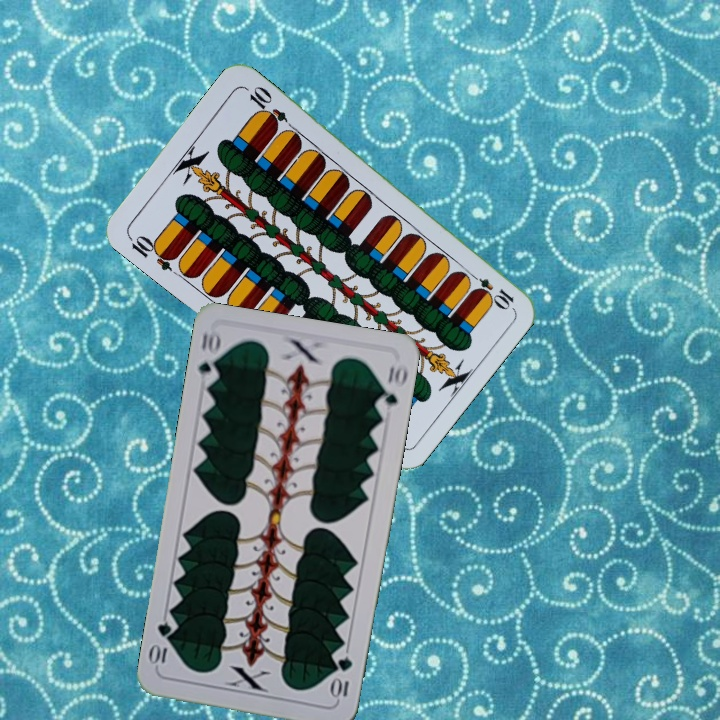E10: (124, 230, 179, 274), (463, 268, 517, 311)
G10: (194, 326, 224, 387), (328, 652, 355, 702)
